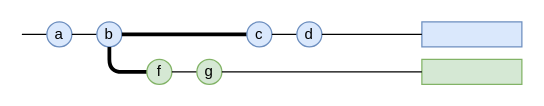
This 544x106 diagram has some shape labels left out. Here are the shapes that lost their labels. From the top down, the centre of each, then its label:
pixel 471 34: main
pixel 471 71: feature
